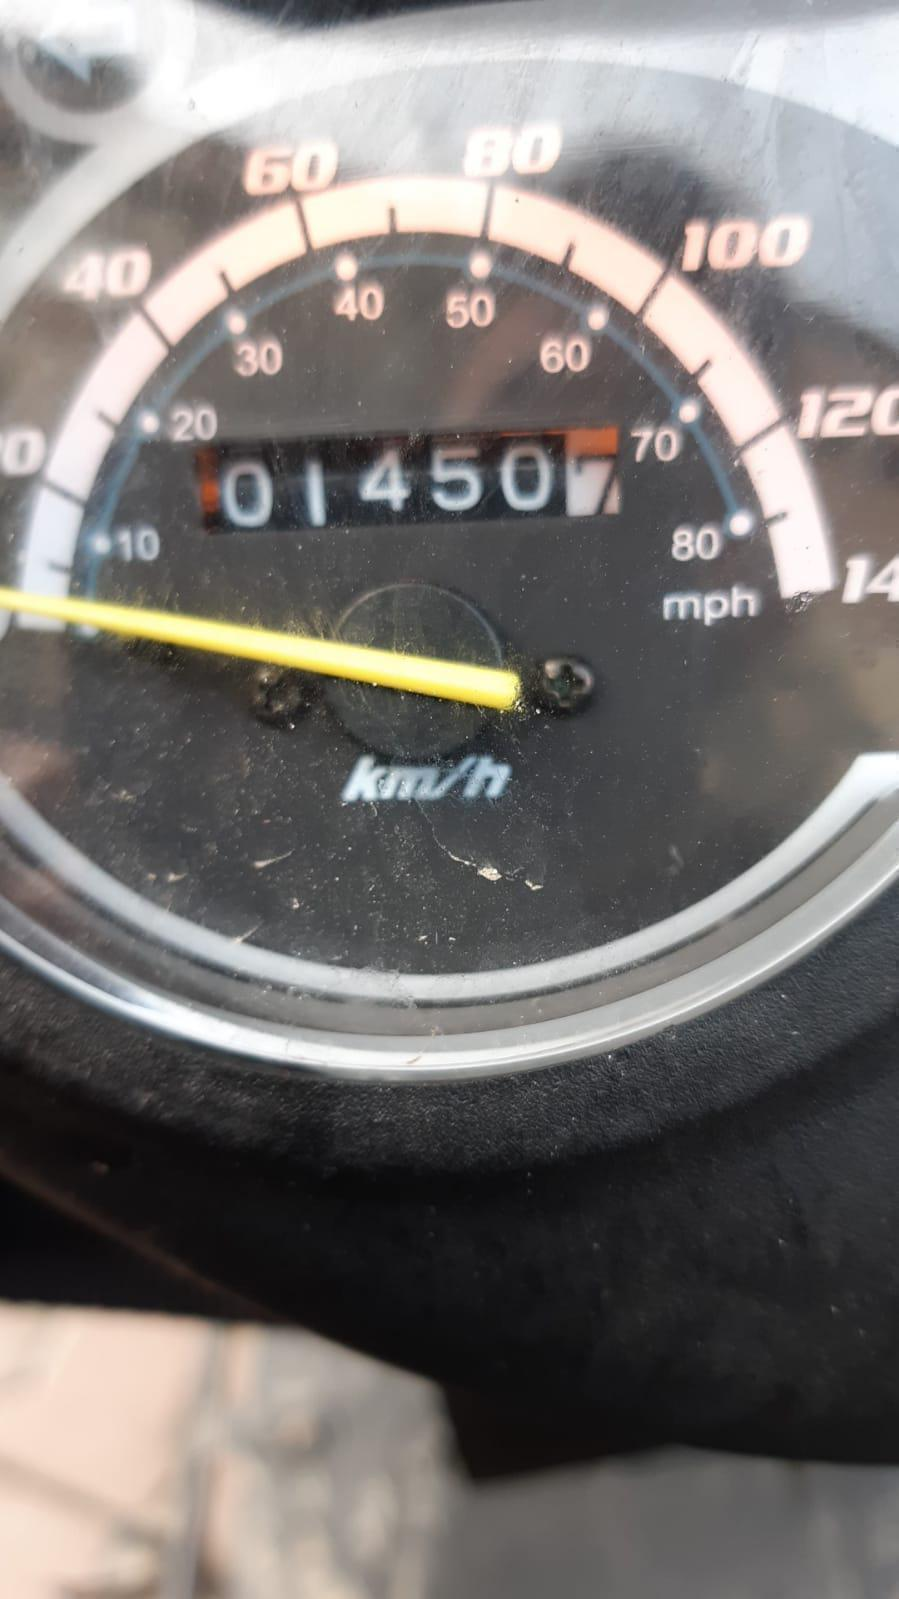0: (220, 455, 279, 528), (502, 439, 555, 519), (196, 405, 221, 439)
1: (301, 447, 338, 529)
2: (172, 406, 196, 444)
4: (355, 441, 413, 514)
5: (430, 441, 490, 518)
7: (570, 446, 623, 519)
odometer: (180, 413, 636, 543)
